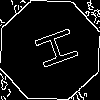H: (25, 25, 80, 74)
